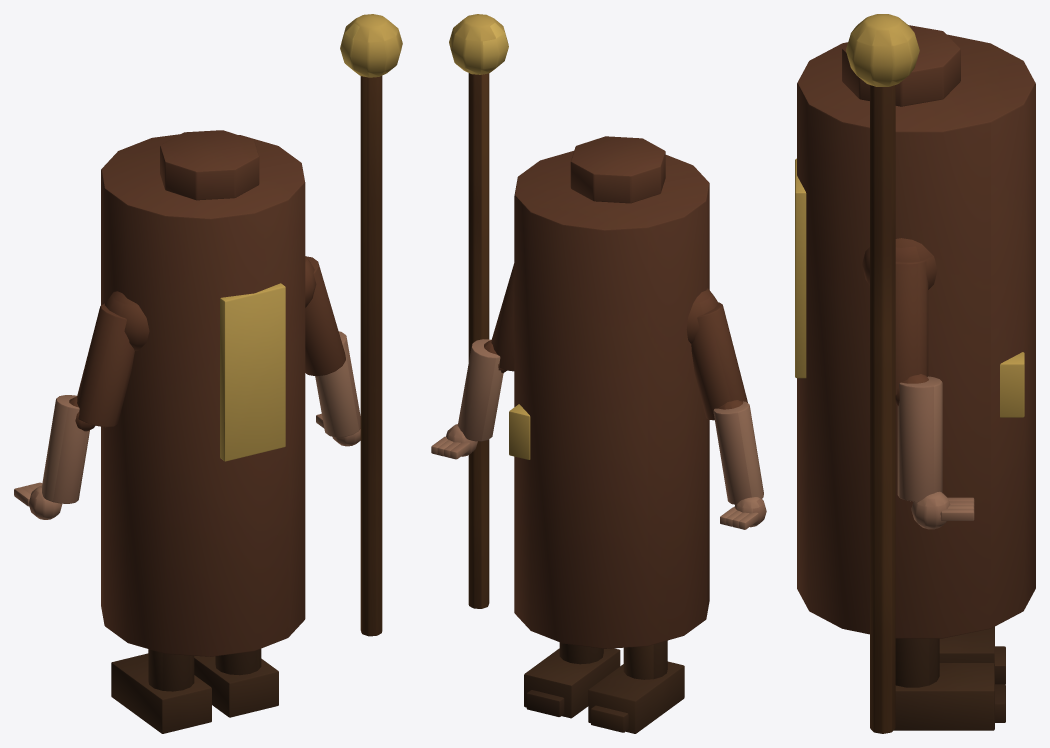
Rendered from unit_university_provost.fbx.
3 views of the same model, side by side, from view 1: azimuth 30°, elevation 25°; view 2: azimuth 150°, elevation 25°; view 3: azimuth 270°, elevation 25° (orthographic). The views are drawn at different scales.
Parts seen in each view (by area): view 1: unit_university_provost; view 2: unit_university_provost; view 3: unit_university_provost.
Boxes of the visible parts, x1,y1,x2,y2 form: unit_university_provost: (14, 14, 402, 733); unit_university_provost: (431, 14, 766, 733); unit_university_provost: (795, 14, 1035, 733).
Size of the model in its own units: 1.24 by 2.27 by 0.645.
